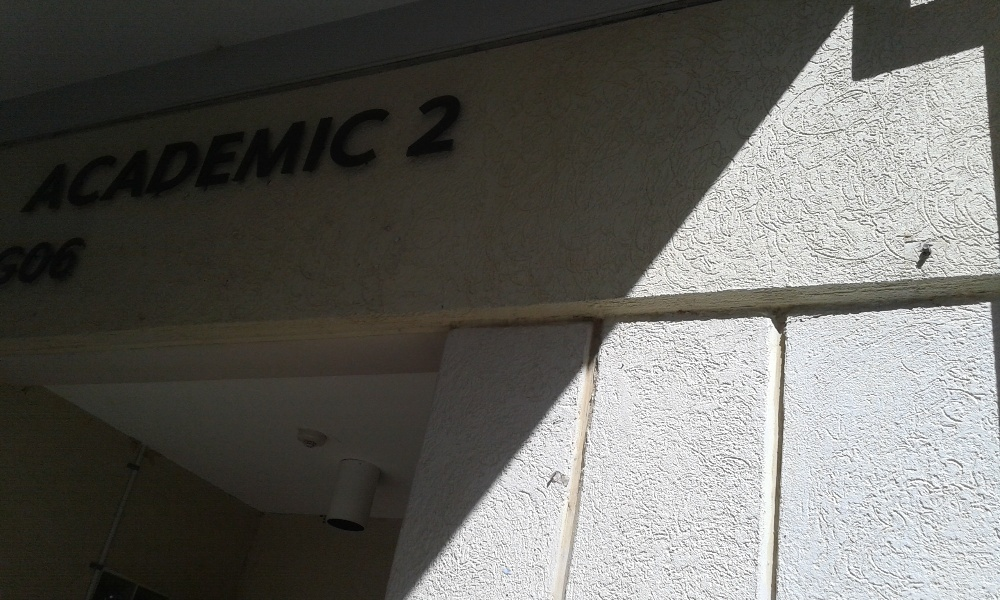text: (65, 101, 80, 217), (81, 101, 96, 217), (97, 101, 112, 217), (113, 101, 128, 217), (129, 101, 144, 217), (145, 101, 160, 217), (161, 101, 176, 217), (177, 101, 192, 217), (193, 101, 208, 217), (209, 101, 224, 217), (225, 101, 240, 217), (241, 101, 256, 217), (257, 101, 272, 217), (273, 101, 288, 217), (289, 101, 304, 217), (305, 101, 320, 217), (321, 101, 336, 217), (337, 101, 352, 217), (353, 101, 368, 217), (369, 101, 384, 217), (385, 101, 400, 217), (53, 101, 64, 217), (433, 88, 448, 163), (449, 88, 464, 163), (420, 88, 432, 163), (33, 236, 48, 284), (49, 236, 64, 284), (65, 236, 80, 284), (81, 236, 90, 284), (30, 236, 32, 284)
